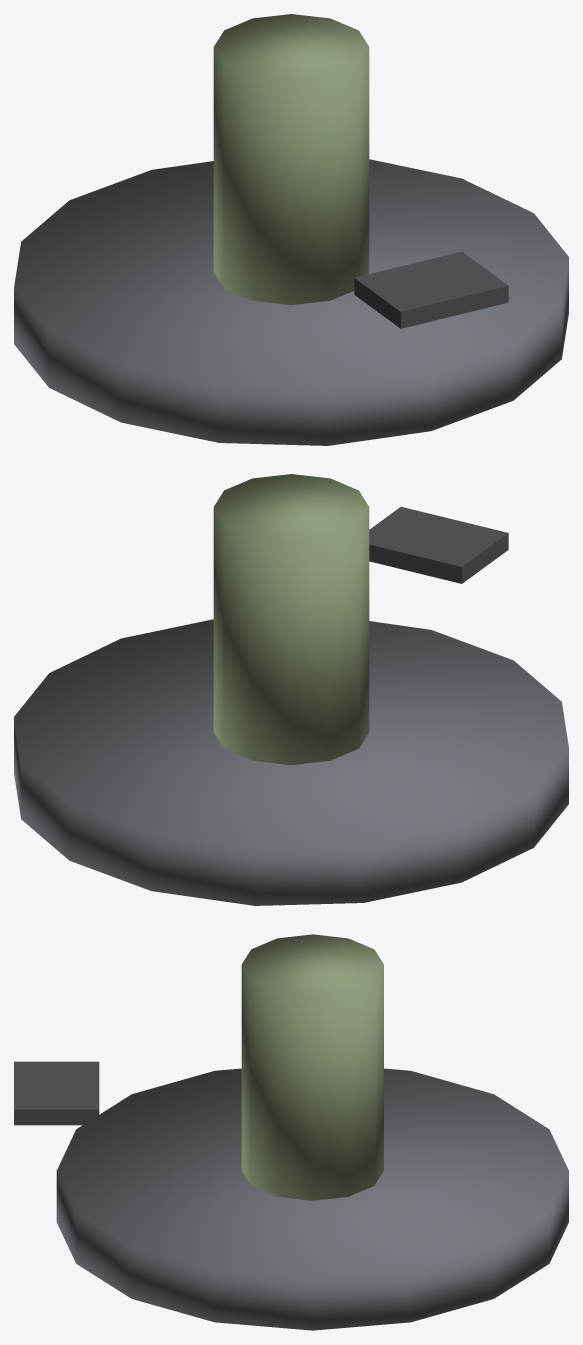
3 renders of one model, top to bottom at view 1: azimuth 30°, elevation 25°; view 2: azimuth 150°, elevation 25°; view 3: azimuth 270°, elevation 25°, orthographic. The views are drawn at different scales.
Parts seen in each view (by area): view 1: aa_base; view 2: aa_base; view 3: aa_base.
Boxes of the visible parts, x1=… form: aa_base: x1=14, y1=14, x2=568, y2=445; aa_base: x1=14, y1=474, x2=568, y2=905; aa_base: x1=14, y1=934, x2=568, y2=1330.
Size of the model in its own units: 1.8 by 1 by 1.95.
